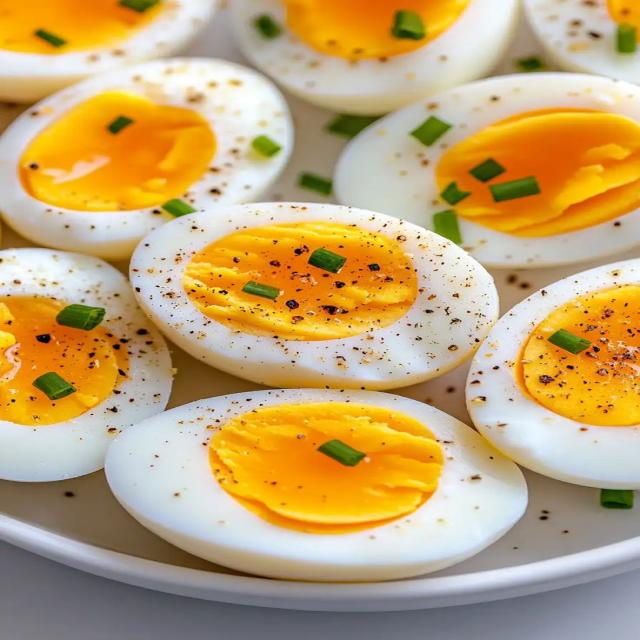eggs: (15, 6, 640, 543)
